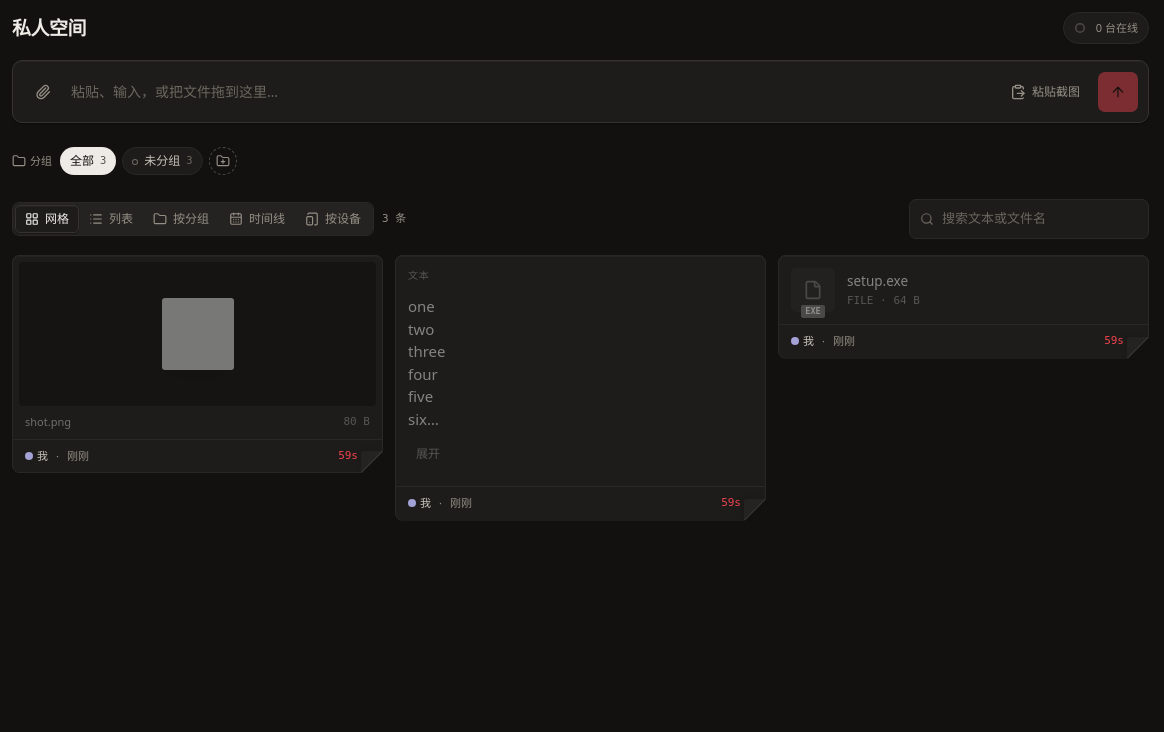
Test: clipboard layout › uses a grid, drops the old table header, and stores the list choice
This screenshot has width=1164, height=732.
expect the text "setup.exe" is shown: met, box left=847, top=272, right=908, bottom=290
expect the message named "0 台设备在线" is shown: met, box left=1063, top=12, right=1149, bottom=44
Click the button "列表".
click(111, 219)  # box left=79, top=199, right=143, bottom=239
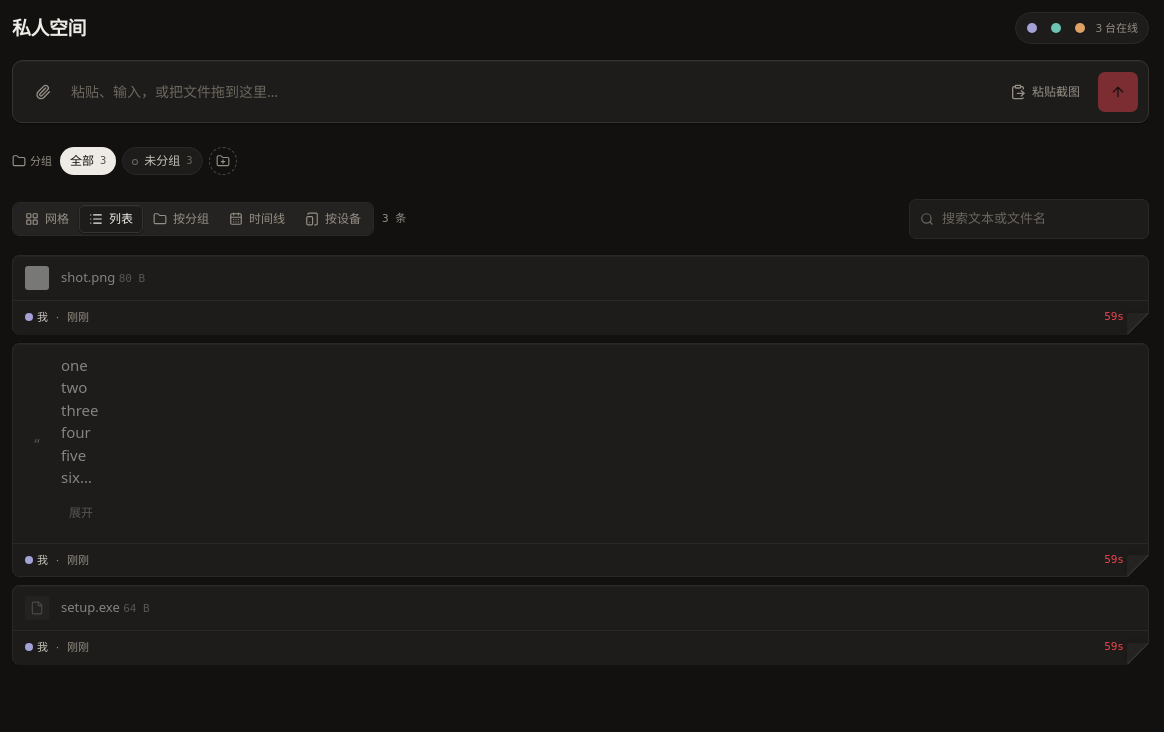
expect the message named "3 台设备在线" is shown: met, box left=1015, top=12, right=1149, bottom=44
Click the button "时间线".
click(257, 219)  # box left=219, top=199, right=295, bottom=239
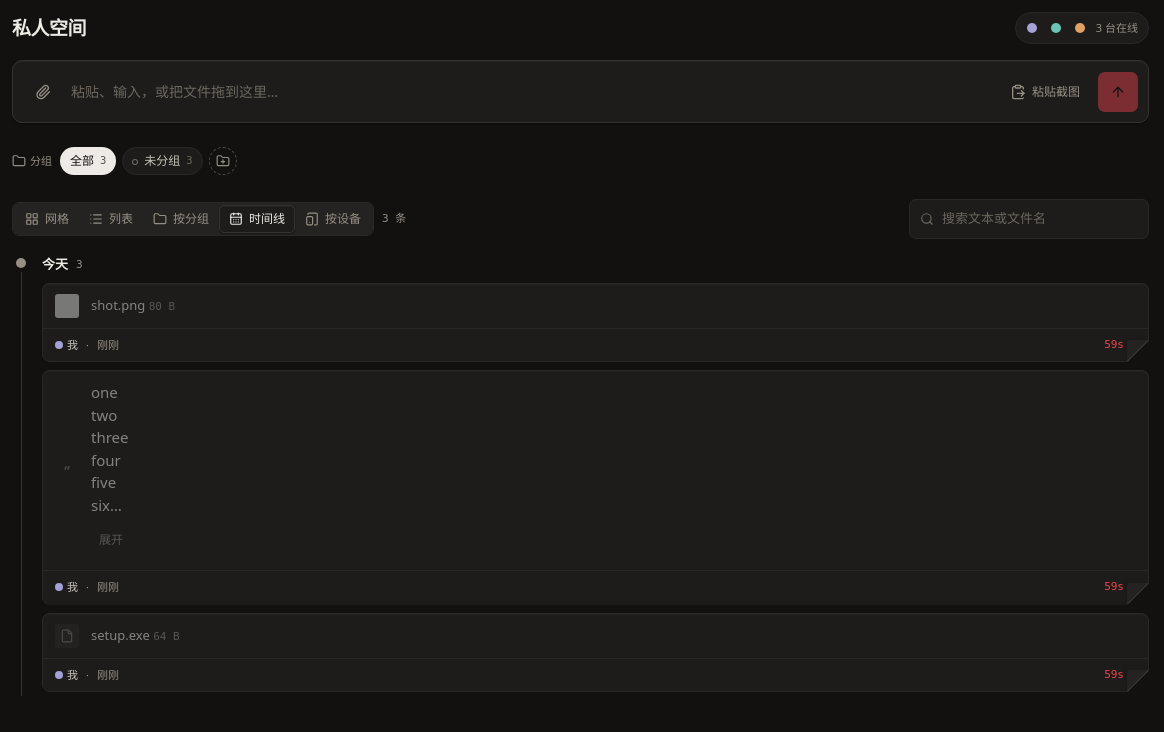
expect the heading "今天 3" is shown: met, box left=42, top=255, right=83, bottom=273
expect the text "setup.exe" is shown: met, box left=91, top=626, right=150, bottom=644
